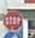stop: (3, 9, 23, 30)
